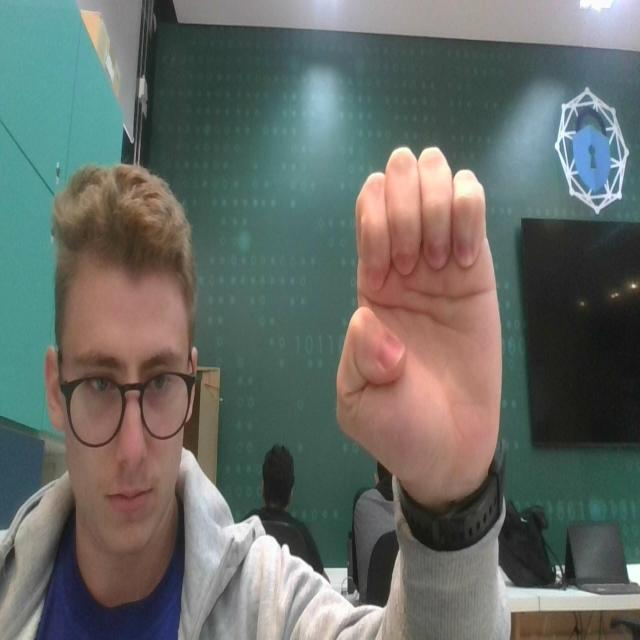E: (316, 125, 530, 550)
